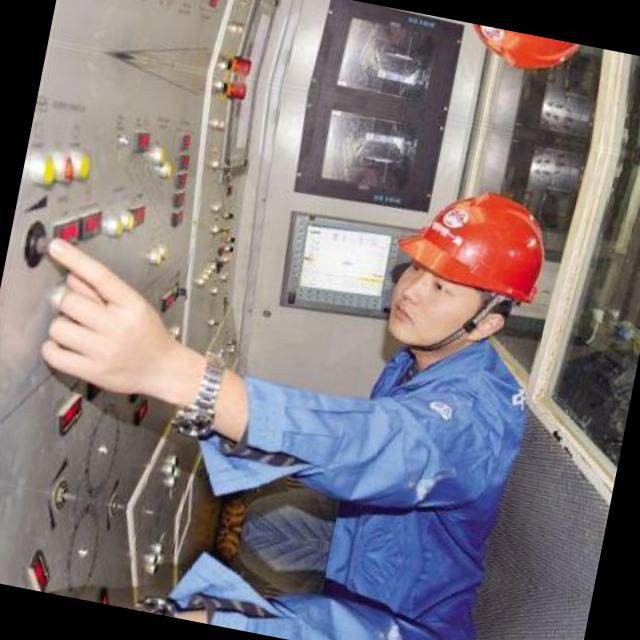helmet: (373, 171, 557, 368), (428, 16, 588, 86)
